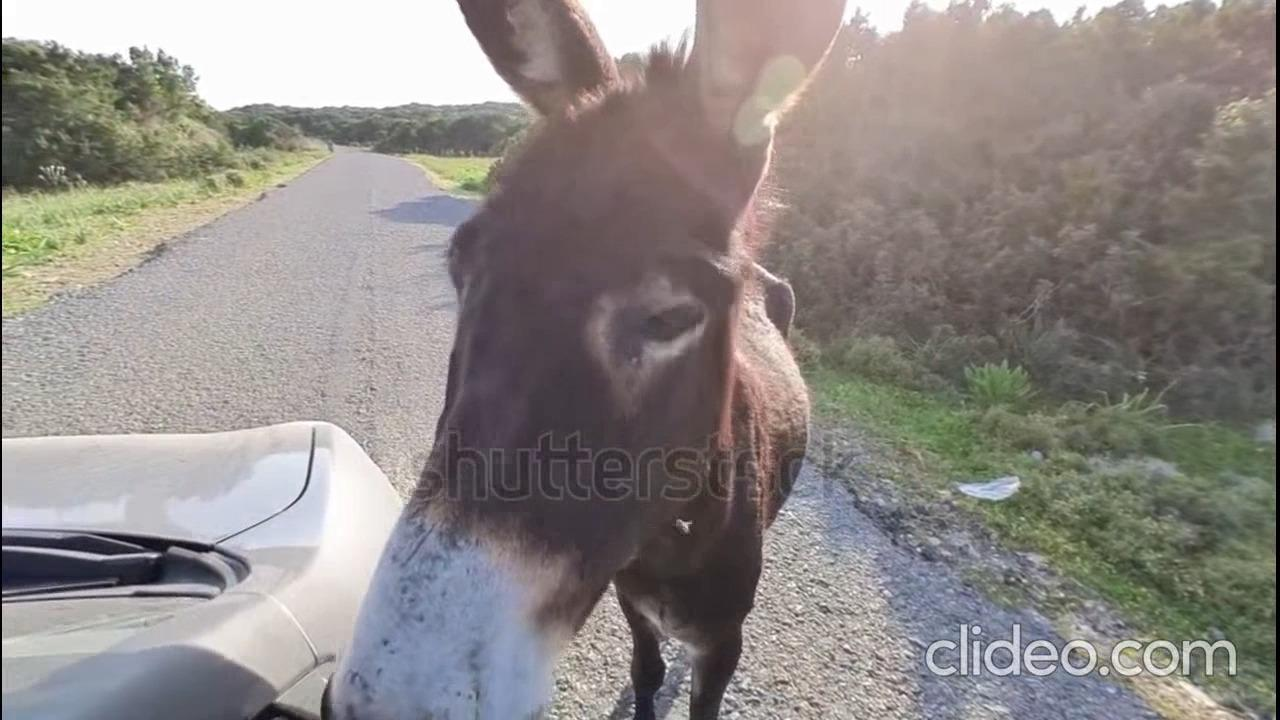Donkey: (256, 1, 815, 719)
